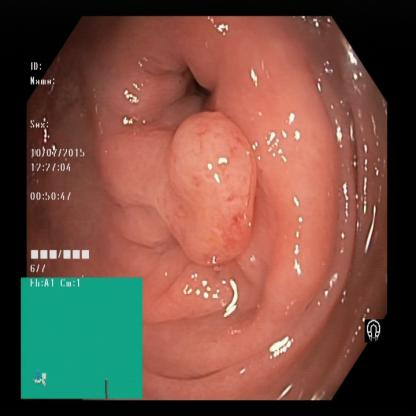Labels: (22, 278, 145, 400), (27, 60, 90, 278), (359, 313, 390, 349)
Polyps: (166, 113, 256, 257)
